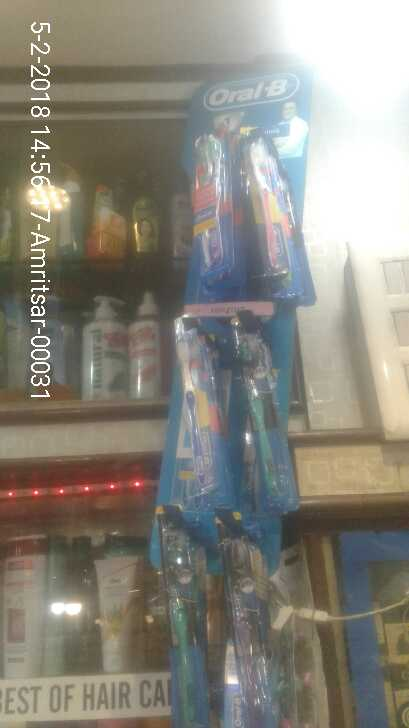oralb: (216, 536, 281, 721), (162, 307, 220, 511), (238, 314, 296, 505), (244, 124, 304, 284), (163, 534, 203, 728), (182, 132, 227, 288)
